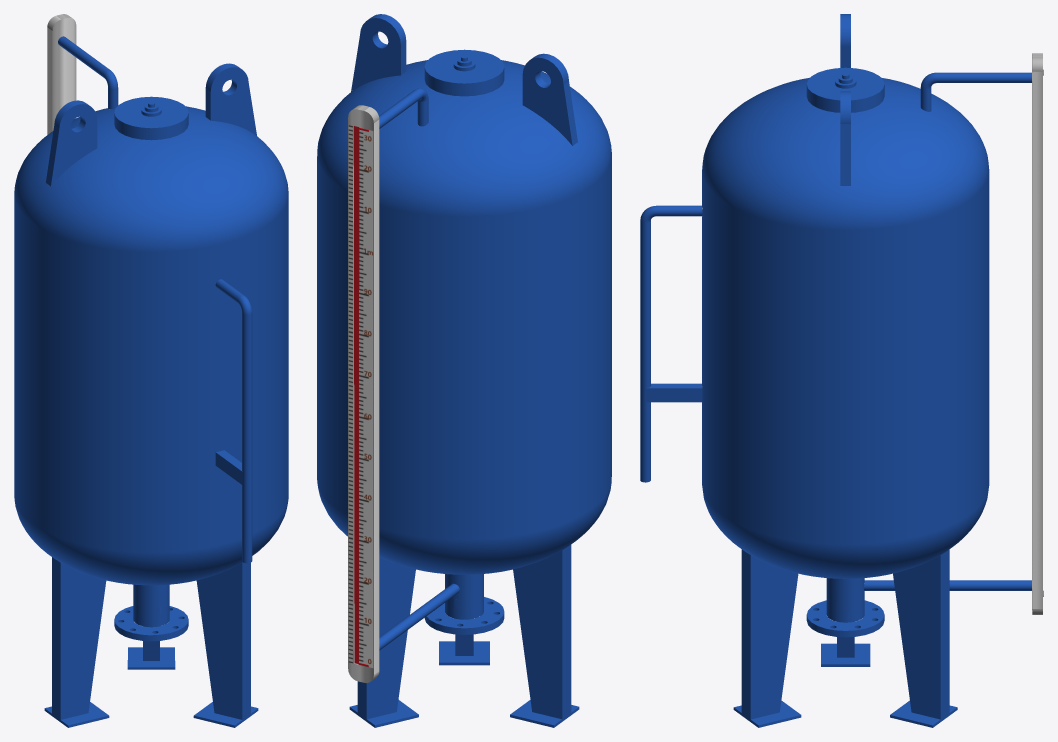
File: 室内消除罐-站立式.glb
3 renders of one model, left to right at view 1: azimuth 30°, elevation 25°; view 2: azimuth 150°, elevation 25°; view 3: azimuth 270°, elevation 25°, orthographic. The views are drawn at different scales.
Parts seen in each view (by area): view 1: 罐体01.外层, 罐头01-其他, 罐体01-水尺条, 罐体01.底部连接; view 2: 罐体01.外层, 罐头01-其他, 罐体01-水尺条, 罐体01-水位线, 罐体01.底部连接; view 3: 罐体01.外层, 罐头01-其他, 罐体01-水尺条, 罐体01.底部连接.
Boxes of the visible parts, bbox=[...] form: 罐体01.外层: bbox=[14, 96, 288, 608]; 罐头01-其他: bbox=[44, 36, 258, 727]; 罐体01-水尺条: bbox=[47, 14, 76, 134]; 罐体01.底部连接: bbox=[114, 602, 188, 641]; 罐体01.外层: bbox=[317, 49, 611, 599]; 罐头01-其他: bbox=[349, 14, 579, 727]; 罐体01-水尺条: bbox=[348, 105, 379, 683]; 罐体01-水位线: bbox=[353, 126, 359, 663]; 罐体01.底部连接: bbox=[424, 593, 504, 634]; 罐体01.外层: bbox=[702, 67, 989, 603]; 罐头01-其他: bbox=[640, 14, 1031, 727]; 罐体01-水尺条: bbox=[1032, 53, 1042, 614]; 罐体01.底部连接: bbox=[806, 596, 884, 637].
Bounding box in the file's own units: 0.8119 × 2 × 1.14.
Materials: 3 (1 with a texture image).
